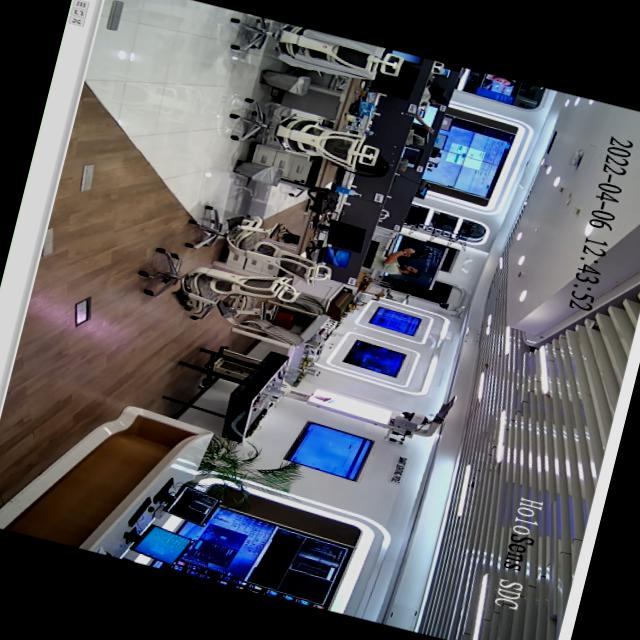long weapon: (384, 233, 442, 271)
